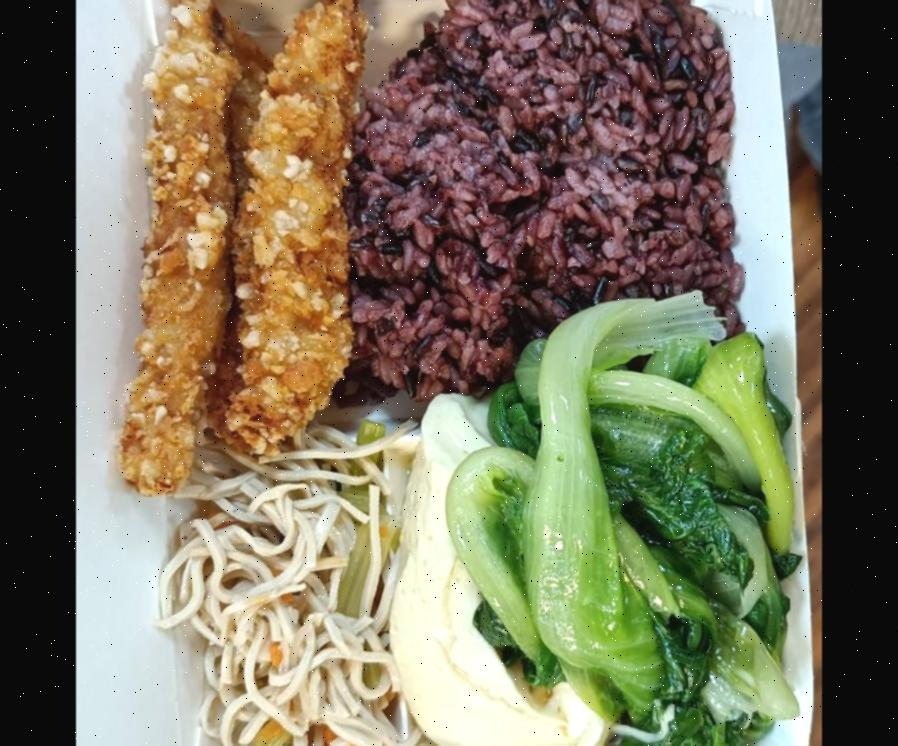box: (134, 0, 818, 746)
fried spanish mackerel: (117, 0, 367, 508)
purple rice: (344, 0, 741, 403)
side dish: (458, 294, 797, 746), (171, 444, 409, 746), (383, 384, 574, 746)
